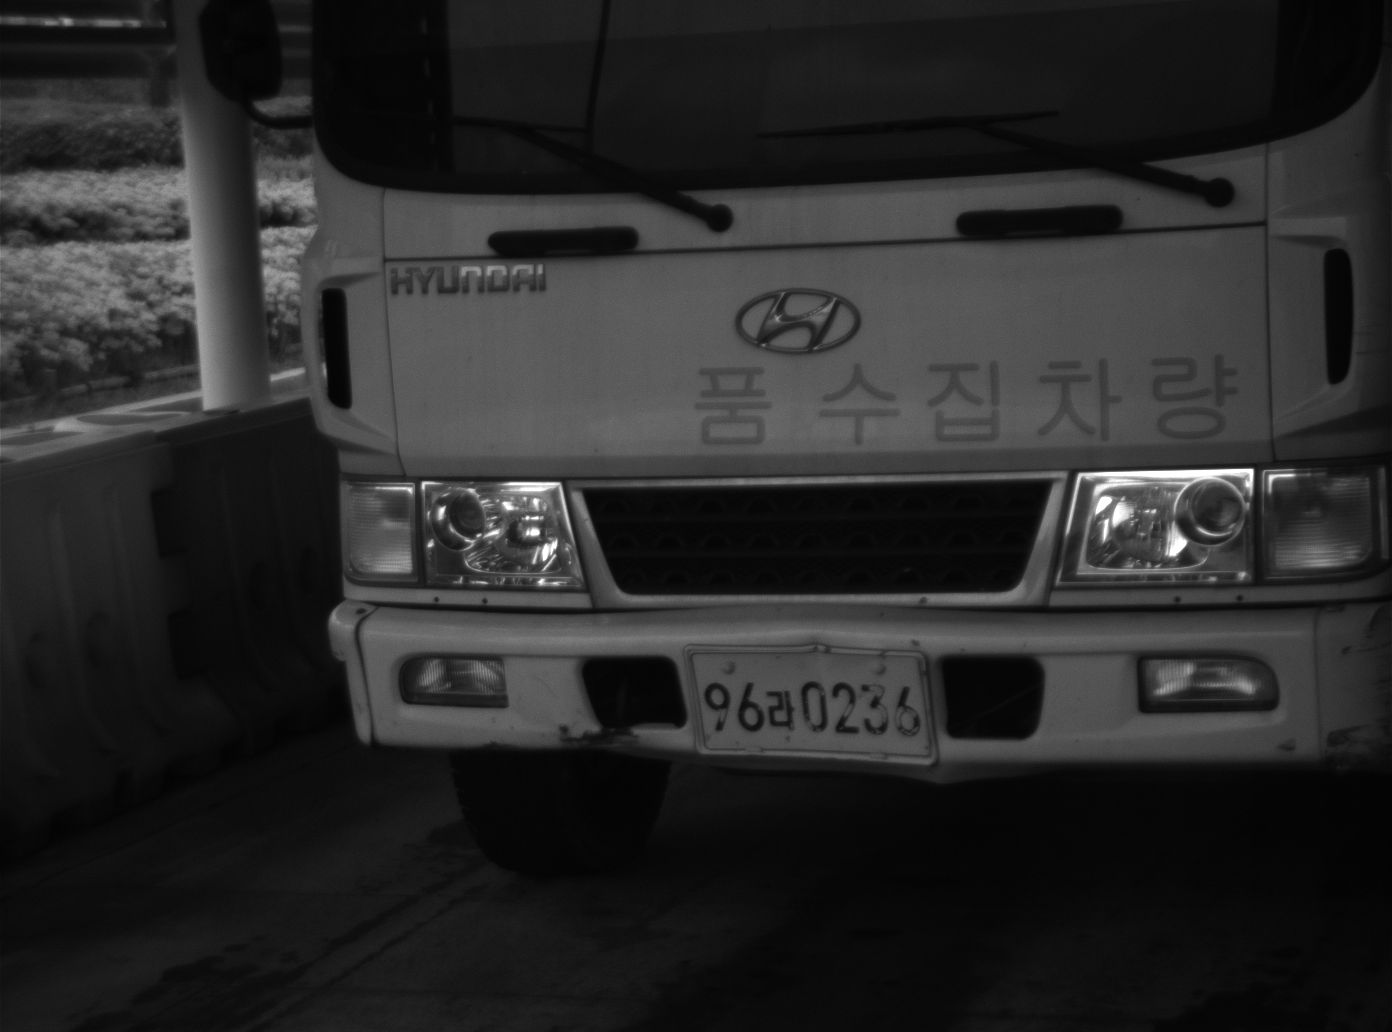car: (290, 1, 1390, 875)
plate: (686, 648, 938, 762)
